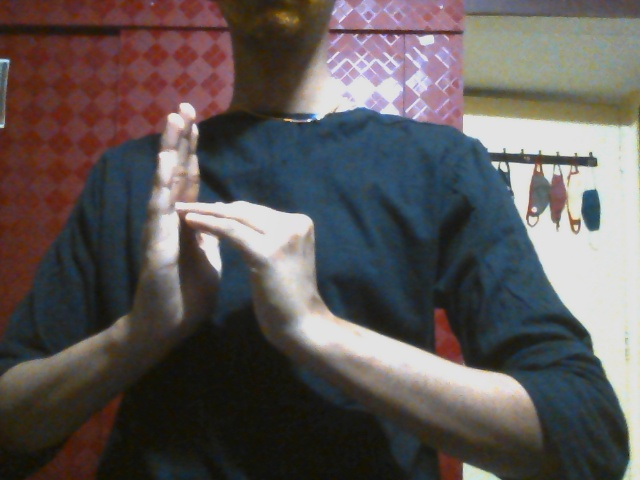Z: (113, 98, 360, 379)
